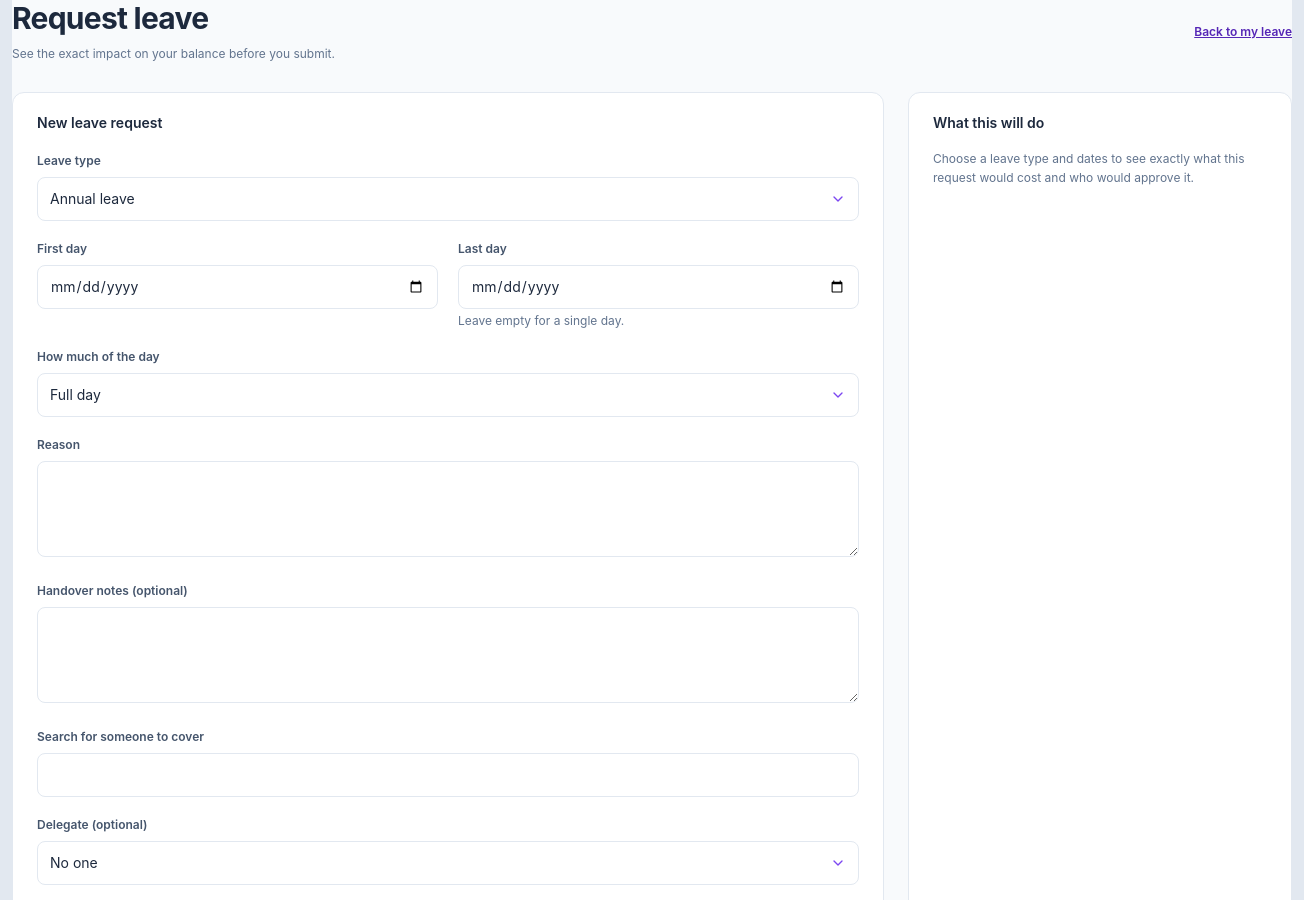
New request flow › shows 422 validation and conflict details from submit, and 409 guidance
Type "2026-10-15" into the date field labelled "First day" at (238, 286), box [37,264,438,308]
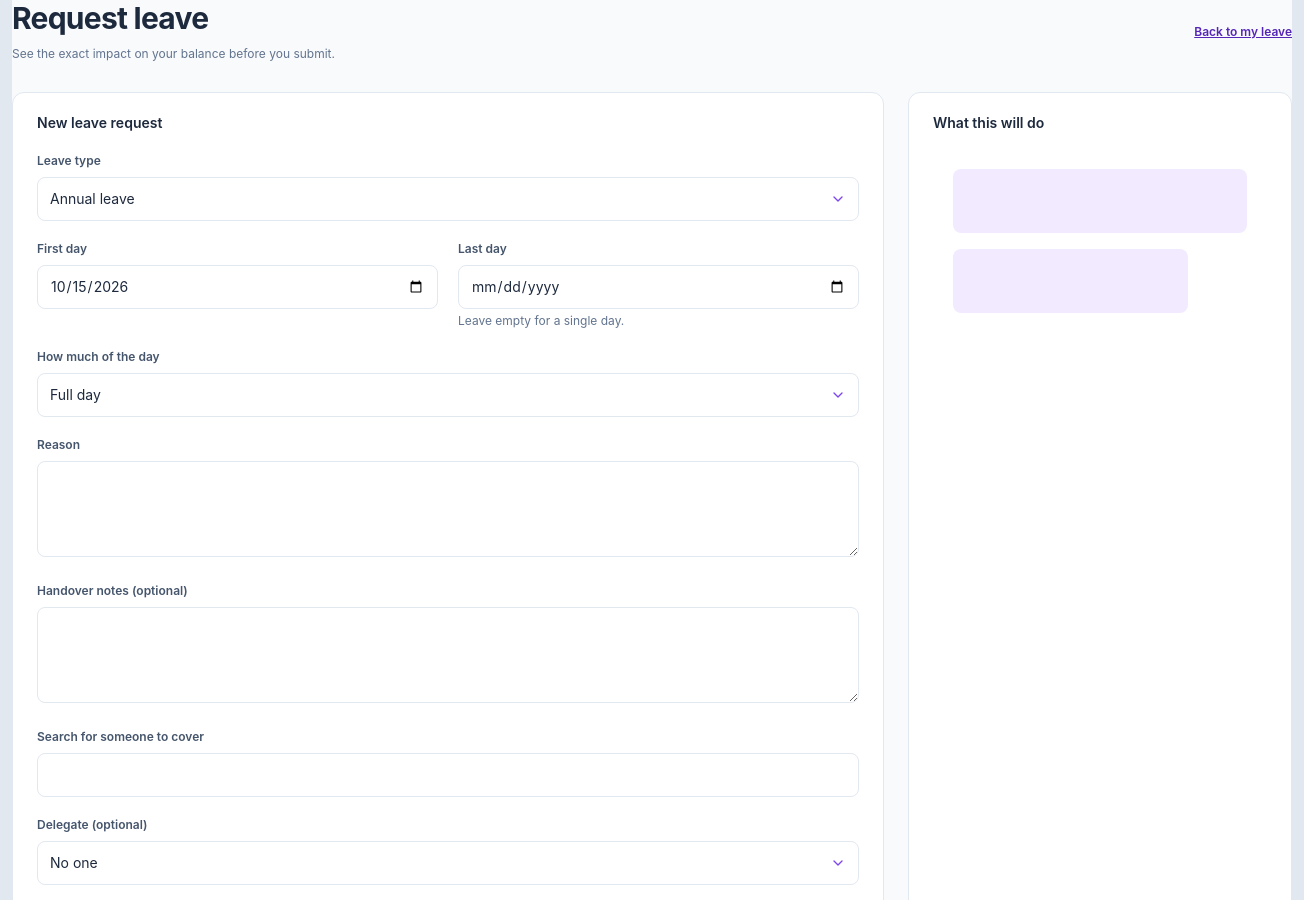
Type "2026-10-16" into the date field labelled "Last day" at (658, 286), box [458,264,859,308]
(page scrolled)
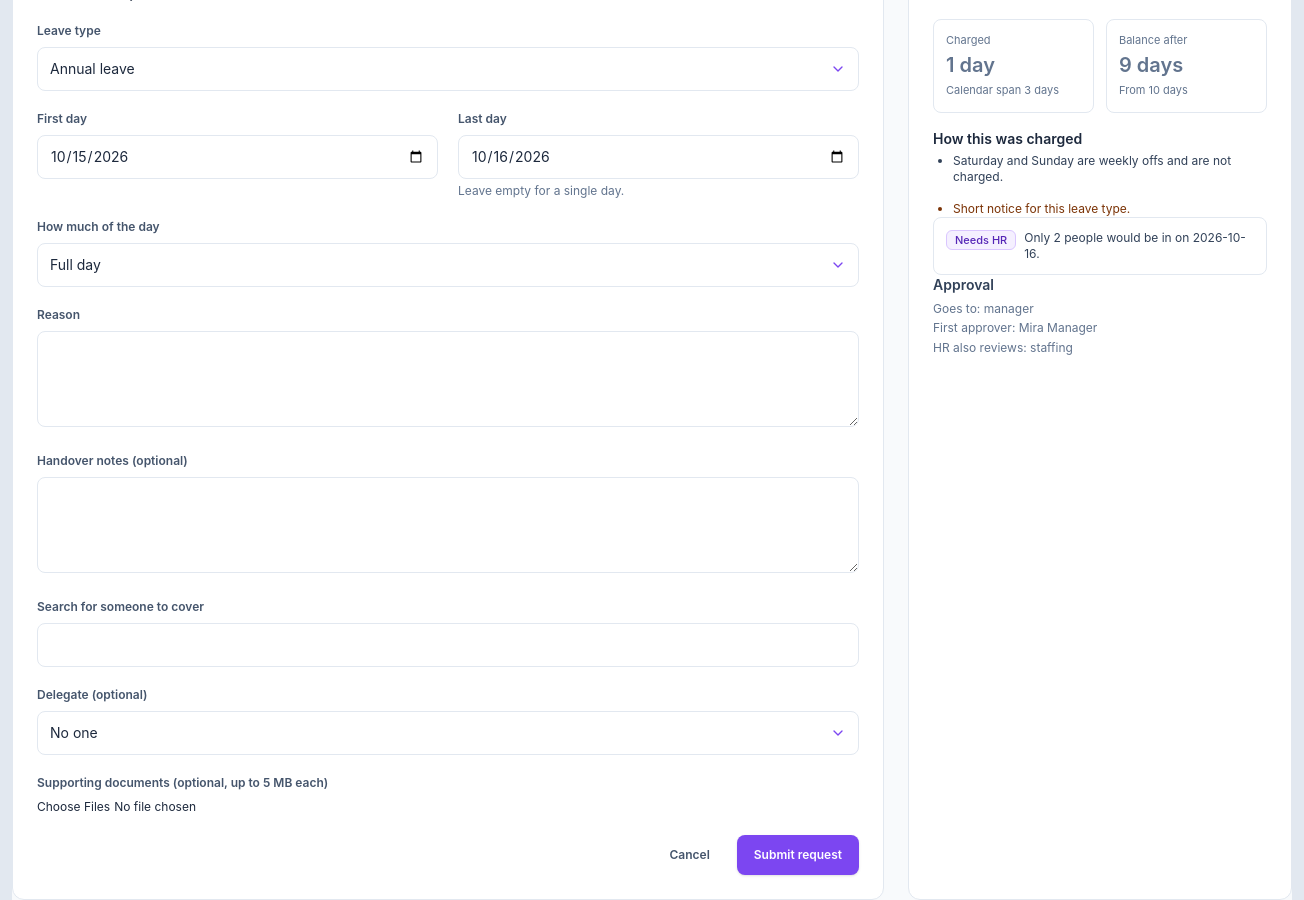
Result: the text "1 day" is shown at [946,53,995,77]
Click the button "Submit request" at (798, 854), box [737,834,859,874]
(page scrolled)
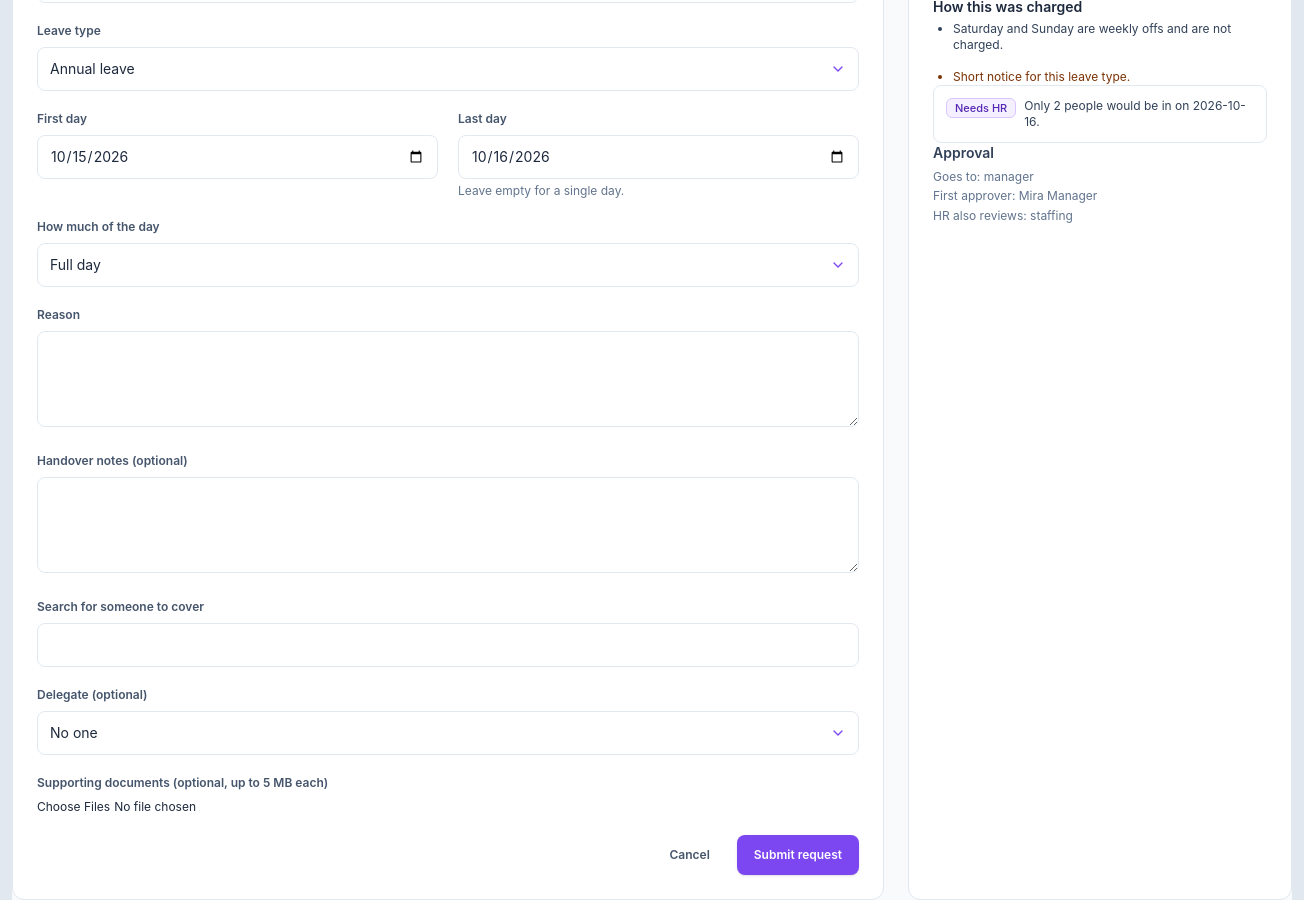
Click the button "Submit request" at (798, 855), box [737,835,859,875]
(page scrolled)
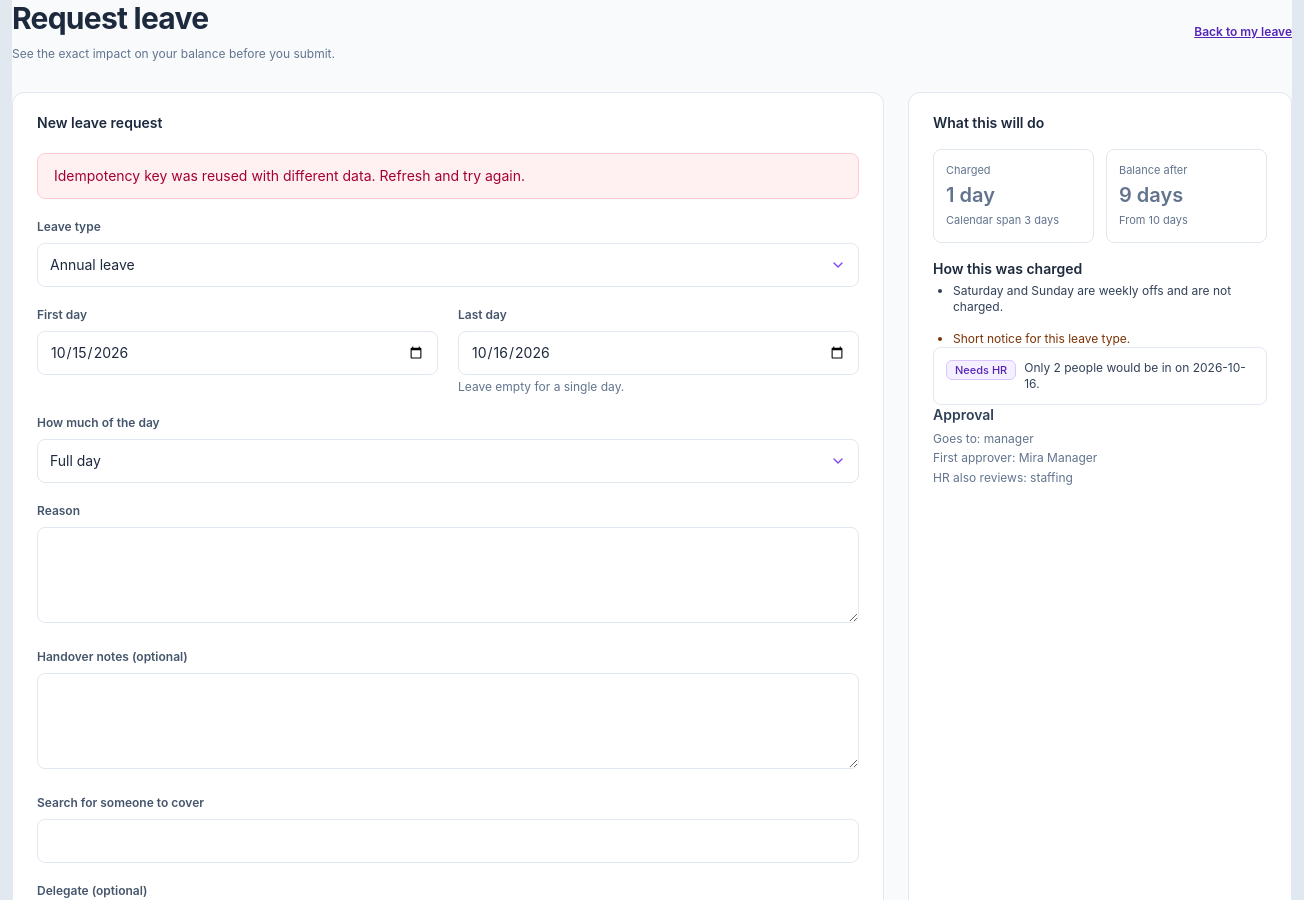
Result: the message shows "Refresh and try again" at [54,166,525,184]
